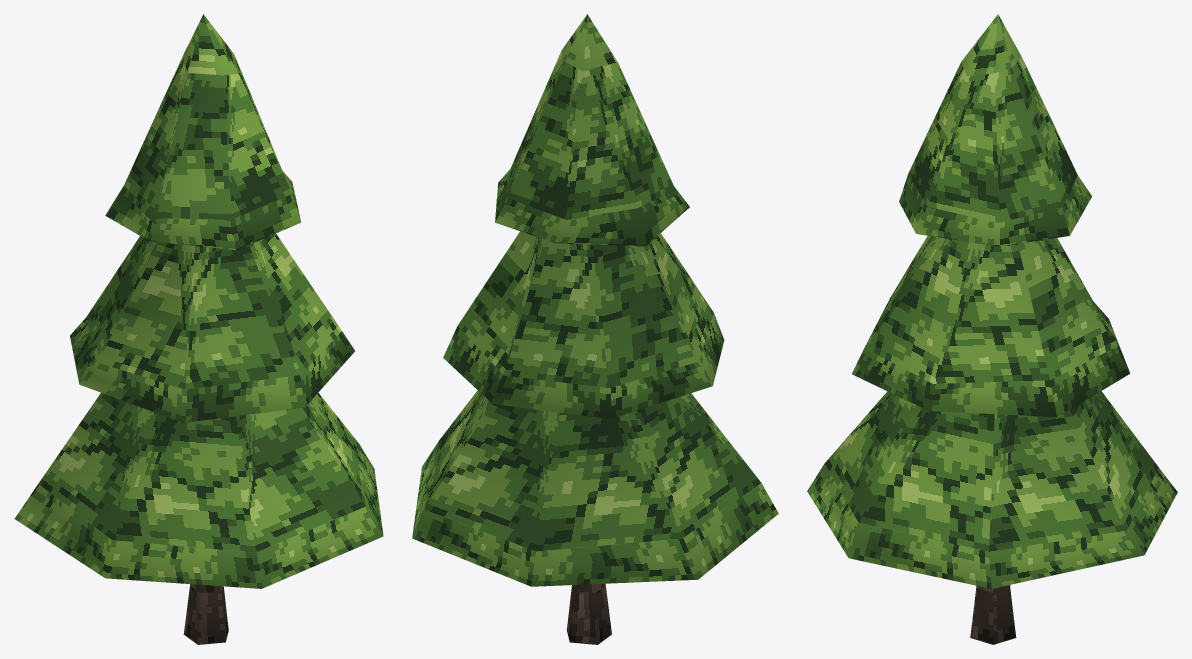
The model's file is mnat.pine__short.glb.
3 renders of one model, left to right at view 1: azimuth 30°, elevation 25°; view 2: azimuth 150°, elevation 25°; view 3: azimuth 270°, elevation 25°, orthographic.
Parts seen in each view (by area): view 1: kit_tiers, kit_trunk; view 2: kit_tiers, kit_trunk; view 3: kit_tiers, kit_trunk.
Boxes of the visible parts, bbox=[...] form: kit_tiers: bbox=[14, 14, 383, 588]; kit_trunk: bbox=[183, 584, 228, 644]; kit_tiers: bbox=[412, 14, 778, 586]; kit_trunk: bbox=[566, 583, 611, 644]; kit_tiers: bbox=[807, 14, 1177, 588]; kit_trunk: bbox=[970, 585, 1016, 644].
Size of the model in its own units: 2.7 by 5.04 by 2.73.
Materials: 2 (2 with a texture image).
